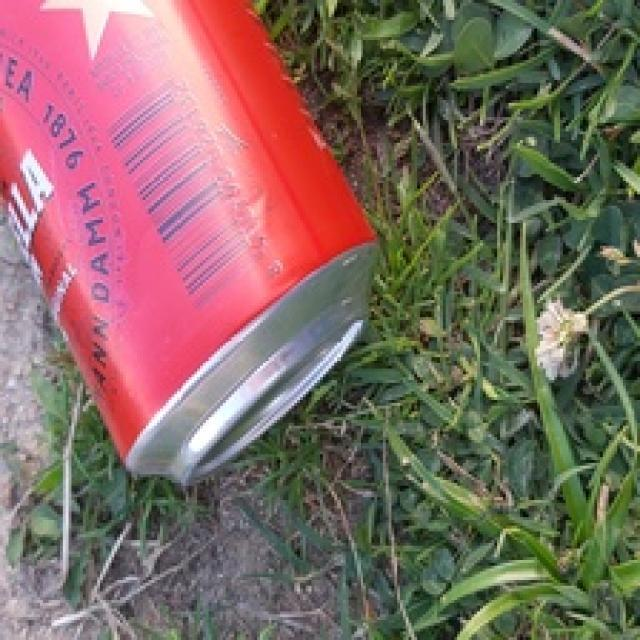recyclable: (0, 0, 384, 489)
